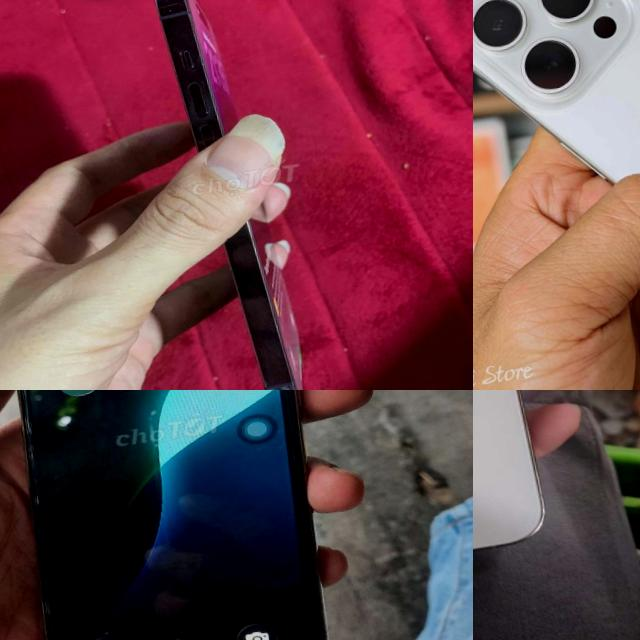gen_11: (0, 390, 345, 640)
gen_12_13: (473, 390, 549, 588)
gen_14: (133, 0, 348, 390)
gen_15: (473, 0, 640, 390)
